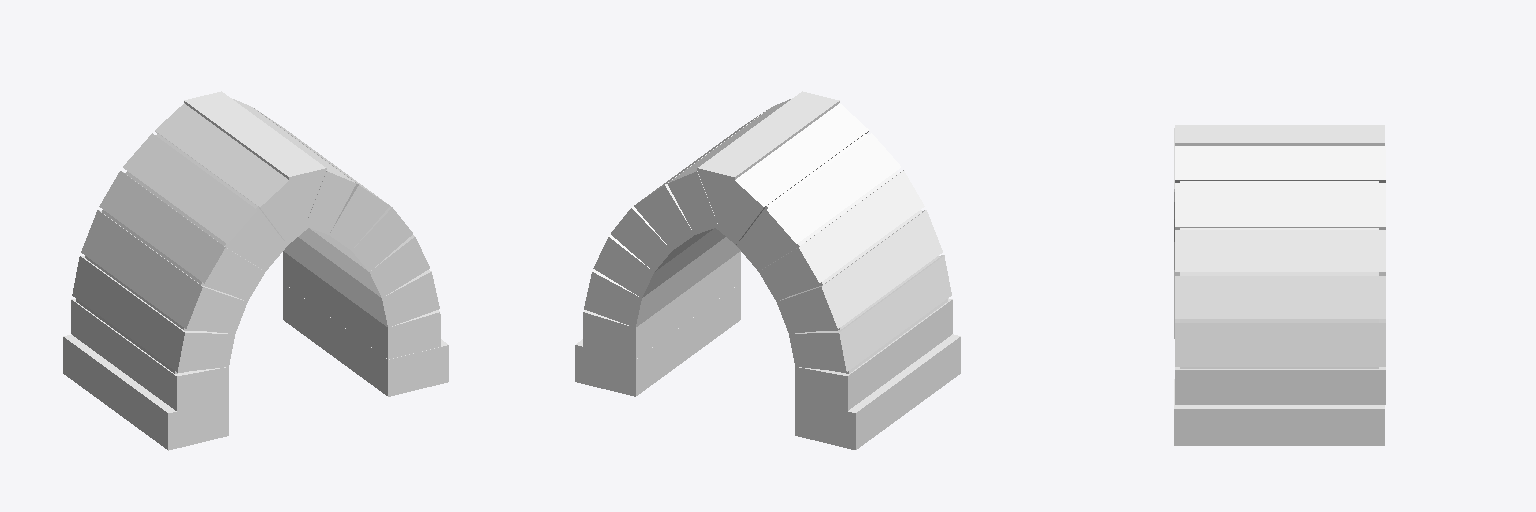
File: generic_gothic_arch_1.obj
The picture shows the model from 3 angles: view 1: azimuth 30°, elevation 25°; view 2: azimuth 150°, elevation 25°; view 3: azimuth 270°, elevation 25°; orthographic projection.
Visible parts, largest first — view 1: cube.195, cube.197, cube.196, cube.214, cube.201, cube.198, cube.022_cube.027, cube.199, cube.213, cube.200, cube.191, cube.192 (+3 smaller); view 2: cube.195, cube.197, cube.196, cube.214, cube.201, cube.198, cube.022_cube.027, cube.199, cube.213, cube.200, cube.191, cube.192 (+3 smaller); view 3: cube.194, cube.191, cube.192, cube.193, cube.022_cube.027, cube.213, cube.202, cube.200, cube.204, cube.205.
Part boxes in pixels (left/top/right/bottom): cube.195: left=123, top=133, right=287, bottom=271; cube.197: left=81, top=210, right=247, bottom=333; cube.196: left=99, top=171, right=264, bottom=301; cube.214: left=63, top=334, right=228, bottom=450; cube.201: left=155, top=103, right=311, bottom=244; cube.198: left=72, top=256, right=234, bottom=372; cube.022_cube.027: left=283, top=283, right=448, bottom=396; cube.199: left=71, top=299, right=228, bottom=410; cube.213: left=283, top=251, right=440, bottom=359; cube.200: left=184, top=91, right=326, bottom=216; cube.191: left=284, top=237, right=439, bottom=327; cube.192: left=299, top=228, right=429, bottom=297; cube.195: left=736, top=133, right=900, bottom=271; cube.197: left=777, top=210, right=942, bottom=333; cube.196: left=759, top=170, right=924, bottom=301; cube.214: left=795, top=334, right=960, bottom=449; cube.201: left=716, top=103, right=868, bottom=244; cube.198: left=789, top=255, right=951, bottom=371; cube.022_cube.027: left=575, top=283, right=740, bottom=396; cube.199: left=795, top=298, right=952, bottom=410; cube.213: left=583, top=251, right=740, bottom=359; cube.200: left=697, top=91, right=839, bottom=217; cube.191: left=584, top=237, right=740, bottom=327; cube.192: left=593, top=228, right=725, bottom=297; cube.194: left=1175, top=183, right=1385, bottom=229; cube.191: left=1175, top=319, right=1385, bottom=366; cube.192: left=1175, top=276, right=1385, bottom=318; cube.193: left=1175, top=230, right=1385, bottom=275; cube.022_cube.027: left=1174, top=379, right=1384, bottom=445; cube.213: left=1175, top=367, right=1385, bottom=404; cube.202: left=1175, top=146, right=1385, bottom=182; cube.200: left=1175, top=125, right=1384, bottom=145; cube.204: left=1180, top=319, right=1378, bottom=322; cube.205: left=1180, top=272, right=1378, bottom=275.
Size of the model in its own units: 1.73 by 1.44 by 1.13.